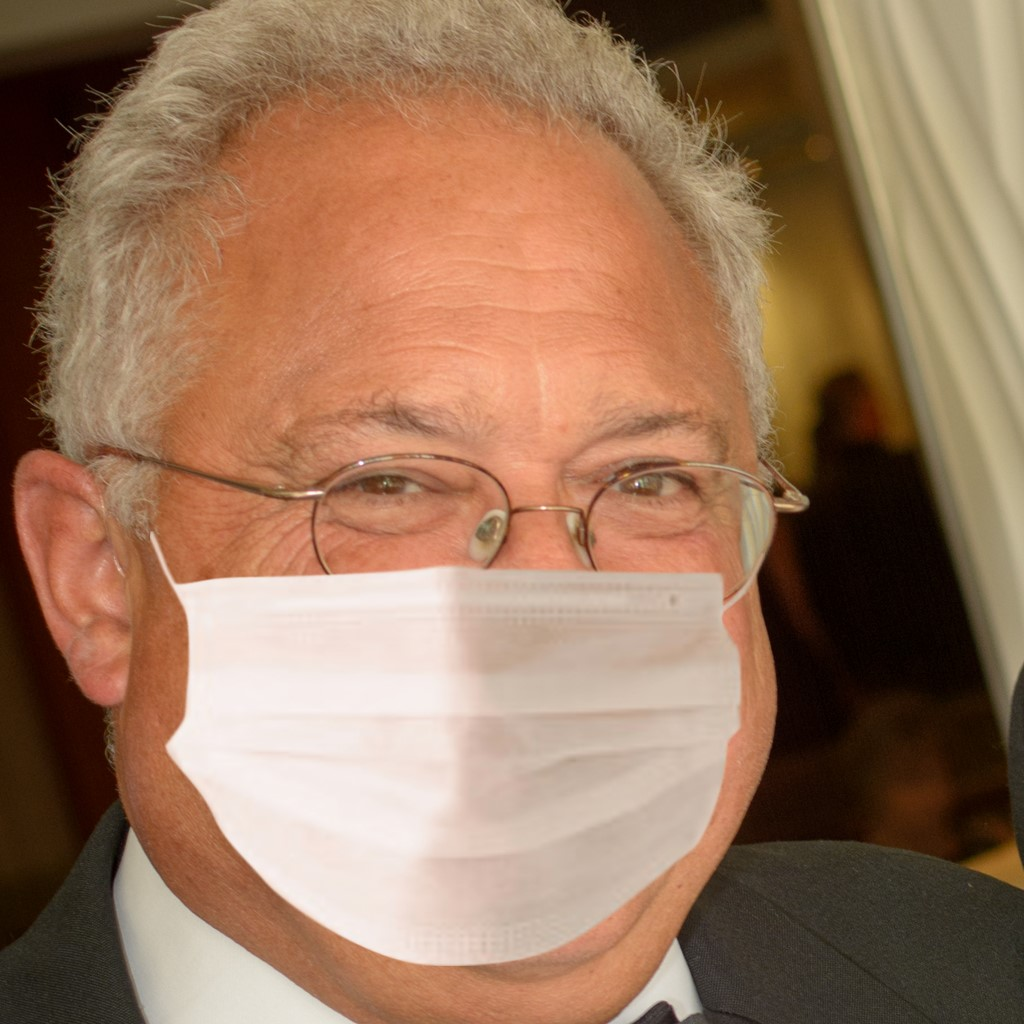con_mascara: (105, 35, 743, 1001)
